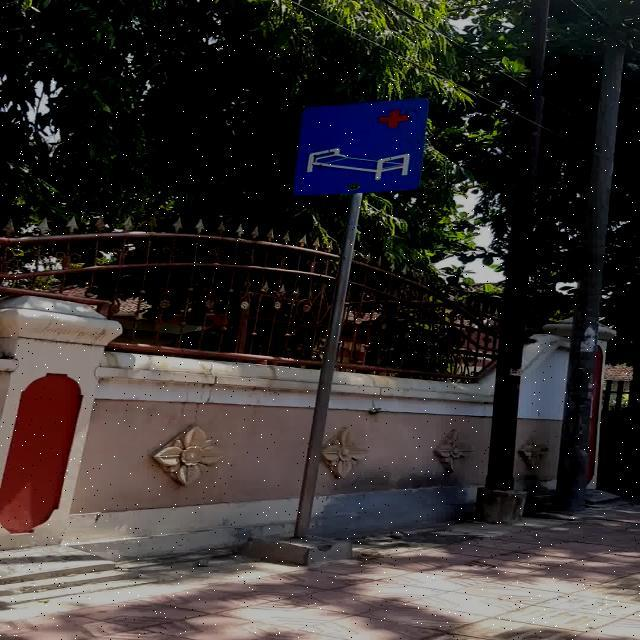Rumah Sakit: (292, 98, 427, 196)
